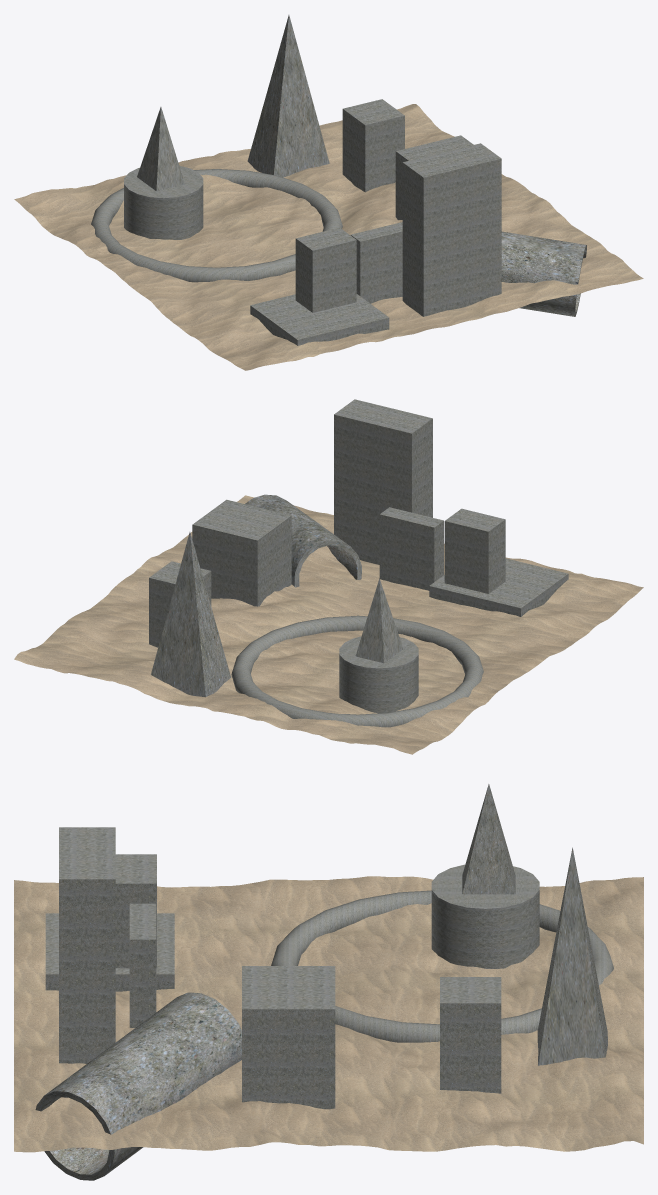
The model's file is demoscene.DAE.
3 renders of one model, top to bottom at view 1: azimuth 30°, elevation 25°; view 2: azimuth 150°, elevation 25°; view 3: azimuth 270°, elevation 25°, orthographic. The views are drawn at different scales.
Visible parts, largest first — view 1: Plane001, Box003, Pyramid001, Torus001, Box001, Box006, Cylinder001, Tube001, Box005, Box004, Pyramid002, Box002; view 2: Plane001, Box003, Box002, Torus001, Pyramid001, Box004, Box006, Cylinder001, Box005, Tube001, Pyramid002, Box001; view 3: Plane001, Tube001, Box003, Box002, Cylinder001, Pyramid001, Torus001, Box001, Pyramid002, Box004, Box006, Box005.
Part boxes in pixels (box(x1,y1,x2,y2)): Plane001: box(14, 104, 643, 370); Box003: box(402, 143, 501, 316); Pyramid001: box(247, 15, 329, 177); Torus001: box(91, 169, 342, 282); Box001: box(342, 99, 404, 192); Box006: box(295, 227, 356, 312); Cylinder001: box(124, 165, 203, 239); Tube001: box(501, 231, 586, 316); Box005: box(250, 294, 389, 345); Box004: box(350, 222, 402, 303); Pyramid002: box(137, 107, 184, 191); Box002: box(395, 135, 473, 219); Plane001: box(14, 495, 643, 754); Box003: box(334, 399, 432, 564); Box002: box(192, 499, 291, 606); Torus001: box(231, 615, 483, 727); Pyramid001: box(151, 532, 231, 697); Box004: box(379, 507, 443, 590); Box006: box(444, 508, 505, 593); Cylinder001: box(339, 636, 418, 713); Box005: box(429, 558, 568, 616); Tube001: box(245, 494, 361, 587); Pyramid002: box(355, 578, 403, 663); Box001: box(149, 561, 211, 647); Plane001: box(14, 876, 643, 1152); Tube001: box(35, 992, 241, 1180); Box003: box(59, 827, 115, 1063); Box002: box(242, 966, 335, 1109); Cylinder001: box(431, 864, 539, 968); Pyramid001: box(537, 847, 607, 1065); Torus001: box(271, 890, 613, 1042); Box001: box(440, 977, 501, 1093); Pyramid002: box(462, 784, 515, 894); Box004: box(129, 903, 156, 1027); Box006: box(115, 854, 156, 968); Box005: box(45, 913, 174, 991).
Size of the model in its own units: 115 by 53.3 by 116.
